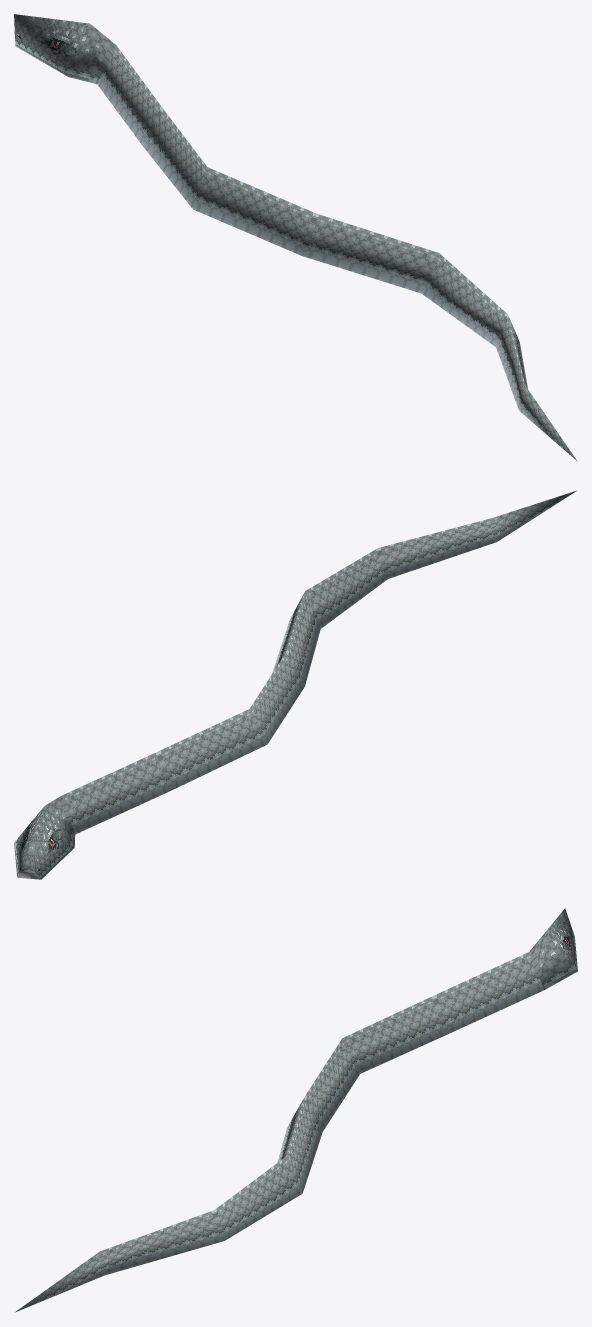
Rendered from Ular.fbx.
The picture shows the model from 3 angles, top to bottom: view 1: azimuth 30°, elevation 25°; view 2: azimuth 150°, elevation 25°; view 3: azimuth 330°, elevation 25°; orthographic projection. The views are drawn at different scales.
Parts seen in each view (by area): view 1: snake; view 2: snake; view 3: snake.
Boxes of the visible parts, box(x1,y1,x2,y2) form: snake: box(14, 14, 577, 461); snake: box(14, 490, 576, 879); snake: box(14, 908, 577, 1312).
Size of the model in its own units: 124 by 42.15 by 1042.
Materials: 1 (1 with a texture image).
